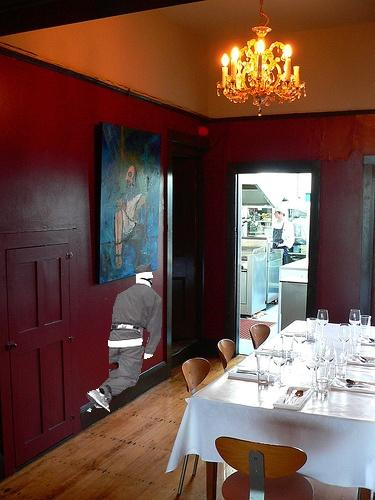tampered: (87, 265, 162, 412)
